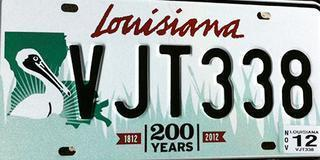placa de veiculo: (2, 4, 318, 155)
